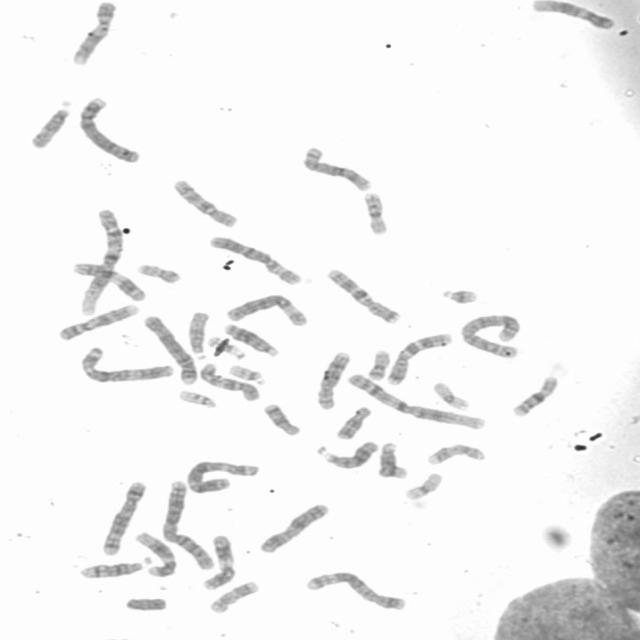A1: (343, 371, 488, 431), (75, 206, 124, 317)
A2: (161, 479, 215, 570), (458, 312, 523, 358)
A3: (77, 345, 176, 384), (184, 458, 261, 494)
B4: (76, 94, 142, 164), (141, 312, 199, 387)
B5: (302, 569, 407, 611), (98, 478, 146, 556)
C10: (169, 176, 239, 228), (195, 361, 262, 402)
C11: (70, 260, 148, 303), (200, 531, 237, 591)
C12: (527, 0, 617, 31), (132, 529, 180, 578)
C6: (205, 233, 304, 287), (225, 291, 311, 328)
C7: (323, 266, 402, 325), (383, 330, 453, 386)
C8: (299, 144, 373, 192), (314, 349, 352, 410)
C9: (68, 0, 118, 67), (55, 303, 140, 342)
D13: (219, 321, 281, 358), (314, 438, 379, 470)
D14: (75, 555, 154, 580), (375, 439, 410, 480)
D15: (27, 98, 75, 150), (184, 309, 211, 360)
E16: (508, 373, 560, 418), (360, 190, 389, 236)
E17: (205, 578, 261, 615), (424, 442, 486, 466)
E18: (260, 401, 302, 437), (332, 404, 372, 440)
F19: (431, 379, 472, 412), (401, 470, 444, 501)
F20: (133, 261, 182, 285), (364, 348, 392, 381)
G21: (205, 333, 248, 360), (438, 286, 480, 305)
G22: (225, 362, 267, 385), (175, 387, 218, 409)
X: (255, 501, 332, 554)
Y: (122, 595, 169, 613)
